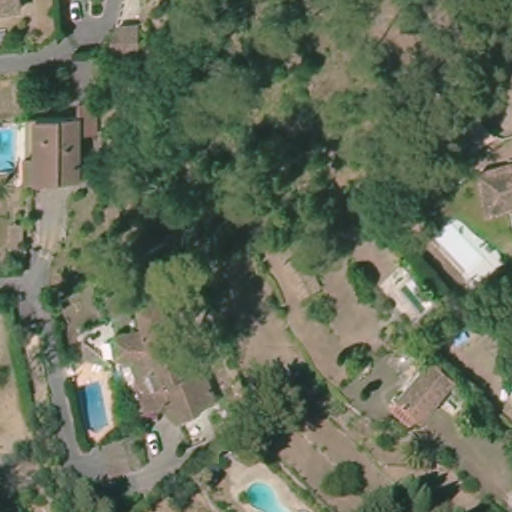pool: (75, 377, 111, 435), (235, 480, 284, 512), (1, 126, 22, 186)
